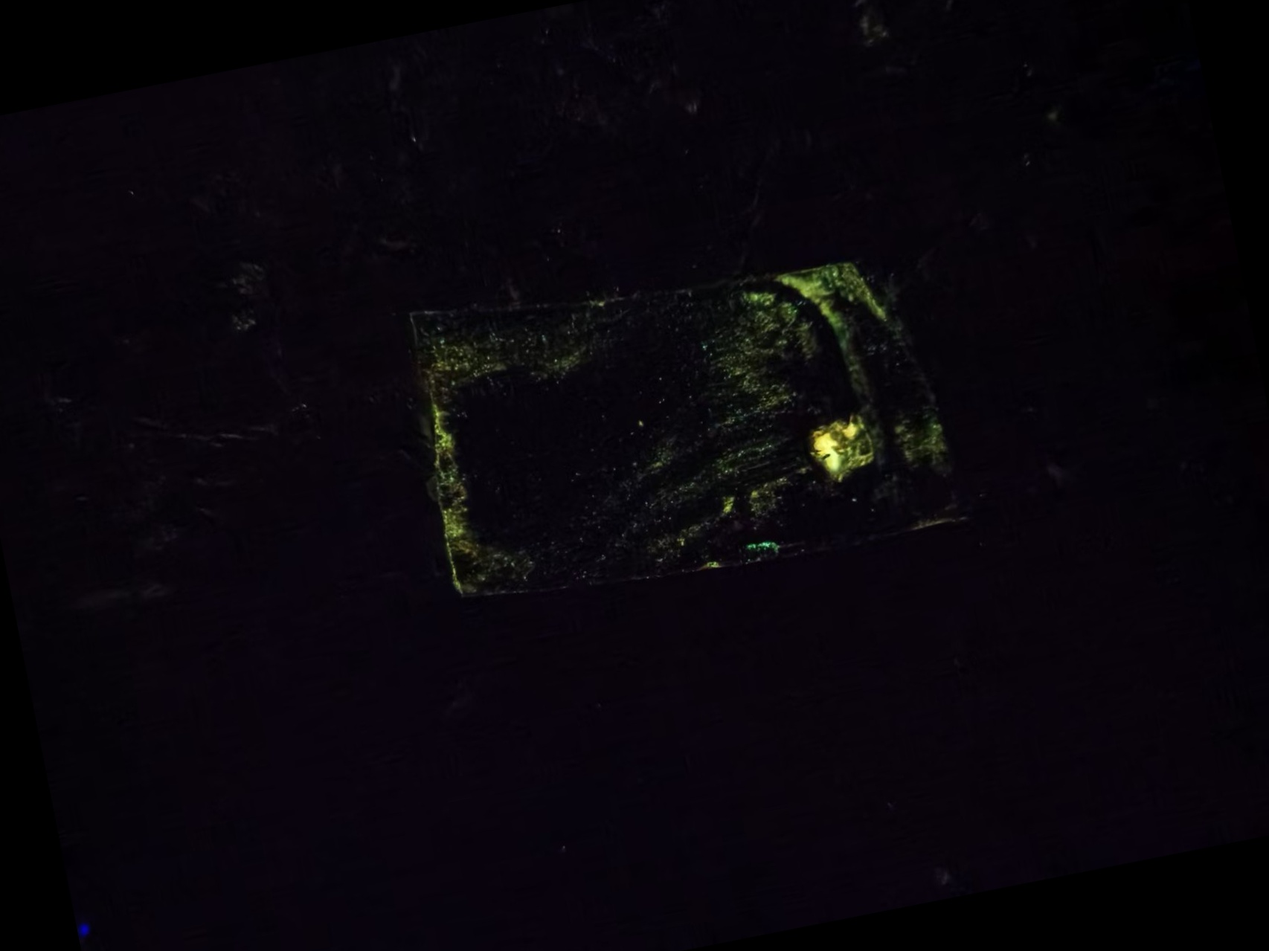Crater: (776, 389, 896, 514)
